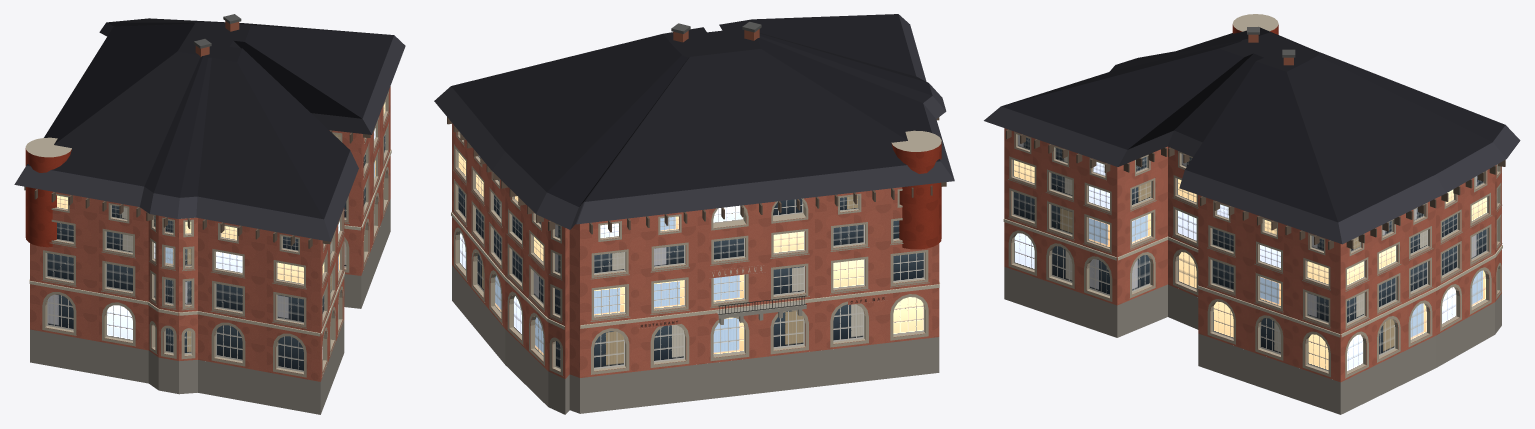
The model's file is volkshaus.glb.
The picture shows the model from 3 angles, left to right: view 1: azimuth 30°, elevation 25°; view 2: azimuth 150°, elevation 25°; view 3: azimuth 270°, elevation 25°; orthographic projection. The views are drawn at different scales.
Parts seen in each view (by area): view 1: volkshaus; view 2: volkshaus; view 3: volkshaus.
Boxes of the visible parts, x1=… form: volkshaus: x1=14, y1=14, x2=405, y2=414; volkshaus: x1=434, y1=14, x2=954, y2=414; volkshaus: x1=984, y1=14, x2=1520, y2=414.
Size of the model in its own units: 53.84 by 32.8 by 58.33.
Materials: 3 (3 with a texture image).
